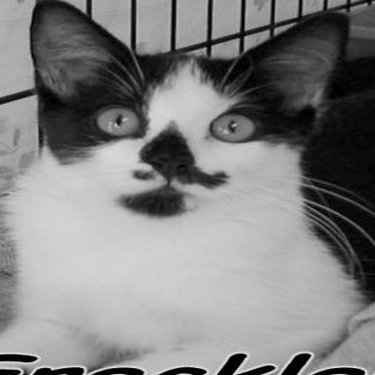cat: (1, 14, 356, 351)
